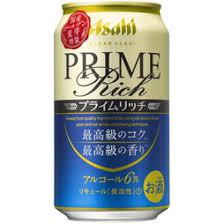beer: (51, 1, 173, 224)
